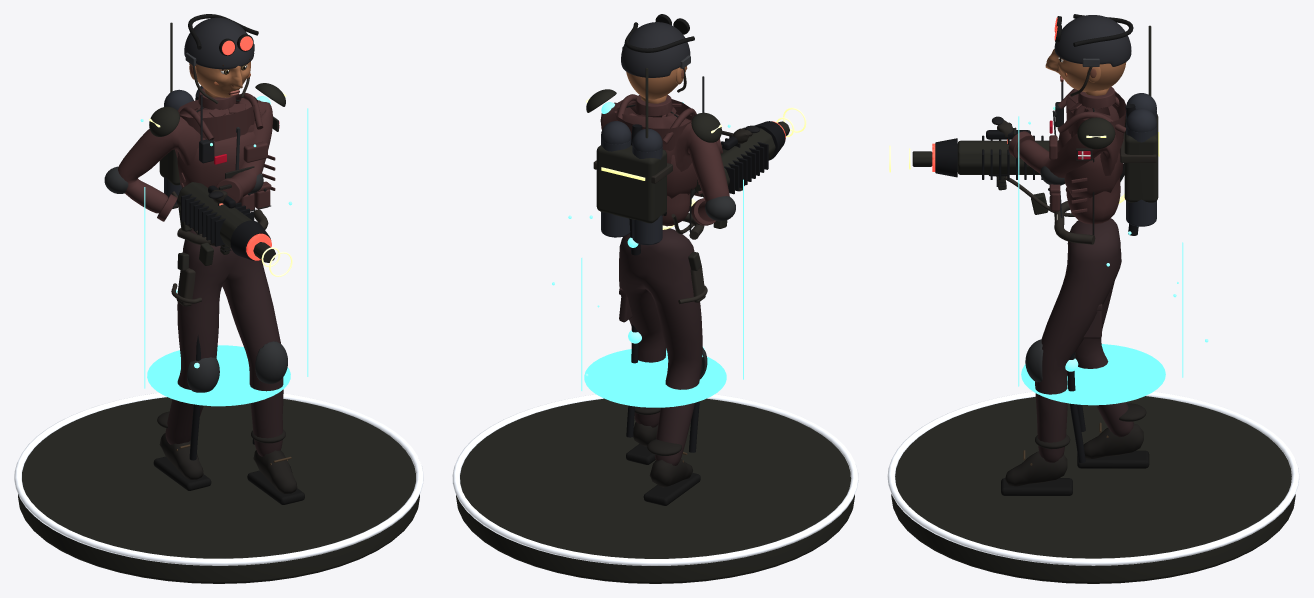
Rendered from straale_std.glb.
3 renders of one model, left to right at view 1: azimuth 30°, elevation 25°; view 2: azimuth 150°, elevation 25°; view 3: azimuth 270°, elevation 25°, orthographic.
Visible parts, largest first — view 1: fod_net, menneske_net, op1_net, op4.001_net, hoved_net, vaaben_net, op3.001_net, op4_net; view 2: fod_net, menneske_net, op3.001_net, op4.001_net, hoved_net, op1_net, vaaben_net, op4_net; view 3: fod_net, menneske_net, op4.001_net, hoved_net, op1_net, vaaben_net, op3.001_net, op4_net.
Boxes of the visible parts, x1,y1,x2,y2 form: fod_net: [14, 393, 423, 583]; menneske_net: [118, 85, 304, 504]; op1_net: [104, 93, 287, 392]; op4.001_net: [140, 108, 308, 406]; hoved_net: [184, 14, 258, 103]; vaaben_net: [176, 182, 271, 260]; op3.001_net: [149, 22, 286, 185]; op4_net: [189, 93, 270, 460]; fod_net: [452, 394, 858, 583]; menneske_net: [593, 94, 759, 505]; op3.001_net: [586, 68, 721, 223]; op4.001_net: [552, 102, 743, 407]; hoved_net: [621, 14, 694, 99]; op1_net: [616, 76, 735, 379]; vaaben_net: [663, 121, 785, 225]; op4_net: [601, 102, 704, 452]; fod_net: [887, 391, 1299, 583]; menneske_net: [992, 87, 1156, 495]; op4.001_net: [1018, 116, 1208, 405]; hoved_net: [1045, 14, 1133, 96]; op1_net: [1025, 82, 1125, 382]; vaaben_net: [932, 130, 1124, 181]; op3.001_net: [1077, 25, 1159, 202]; op4_net: [1065, 104, 1138, 462].
Bounding box in the file's own units: 1.94 × 2.5 × 1.94.
